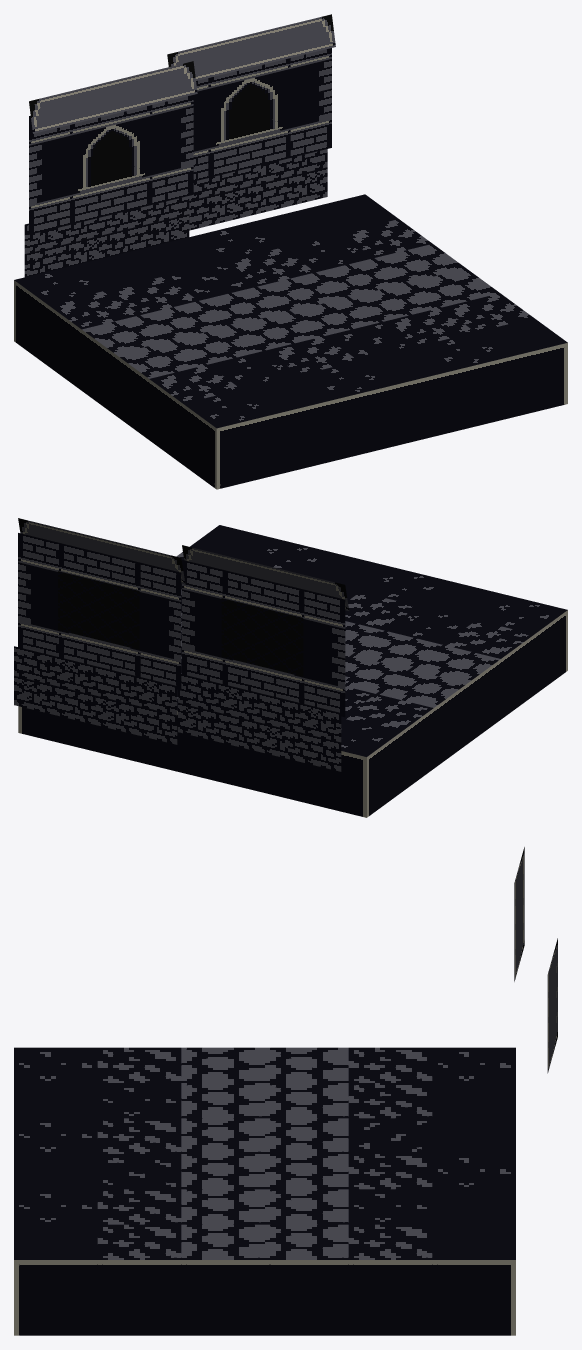
The picture shows the model from 3 angles, top to bottom: view 1: azimuth 30°, elevation 25°; view 2: azimuth 150°, elevation 25°; view 3: azimuth 270°, elevation 25°; orthographic projection. The views are drawn at different scales.
Visible parts, largest first — view 1: Cube; view 2: Cube; view 3: Cube.
Part boxes in pixels (x1,y1,x2,y2): Cube: (14,14,567,489); Cube: (14,518,567,817); Cube: (14,847,557,1335).
Bounding box in the file's own units: 6 × 3.8 × 6.62.
Materials: 2 (2 with a texture image).
